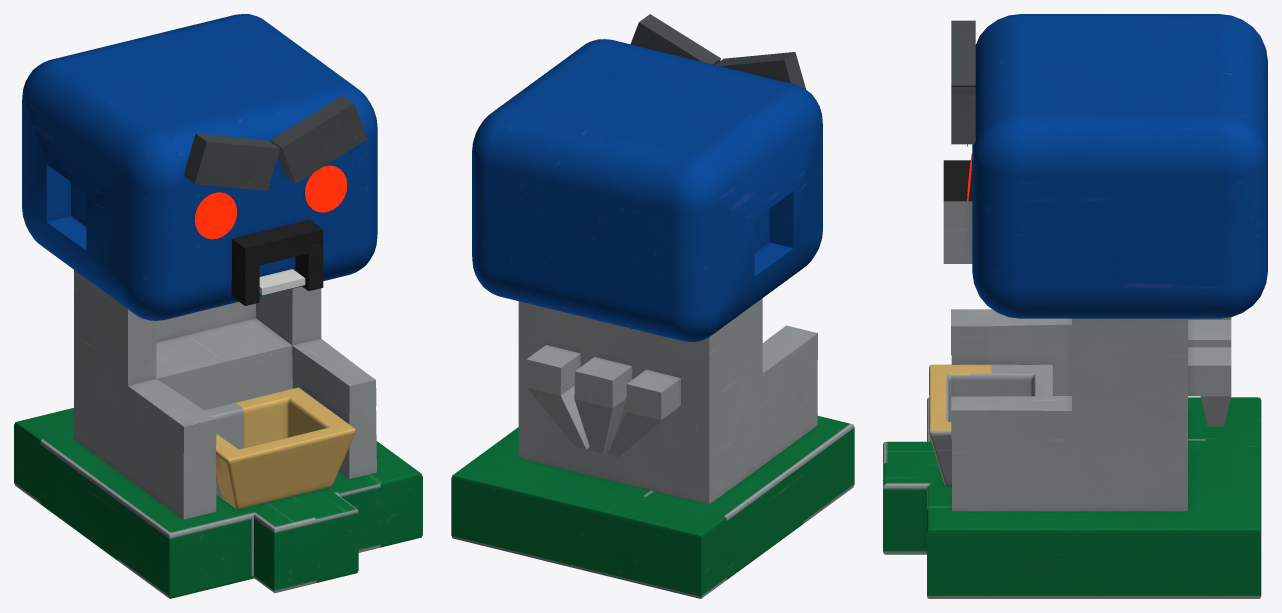
File: LegoStatue_Game.fbx
The picture shows the model from 3 angles, left to right: view 1: azimuth 30°, elevation 25°; view 2: azimuth 150°, elevation 25°; view 3: azimuth 270°, elevation 25°; orthographic projection. The views are drawn at different scales.
Parts seen in each view (by area): view 1: LegoStatue_Game; view 2: LegoStatue_Game; view 3: LegoStatue_Game.
Part boxes in pixels (<box>): LegoStatue_Game: <box>14,14,422,598</box>; LegoStatue_Game: <box>451,14,854,598</box>; LegoStatue_Game: <box>883,14,1267,598</box>.
Size of the model in its own units: 0.7516 by 1.2 by 0.8816.
1 material, 1 textured.
